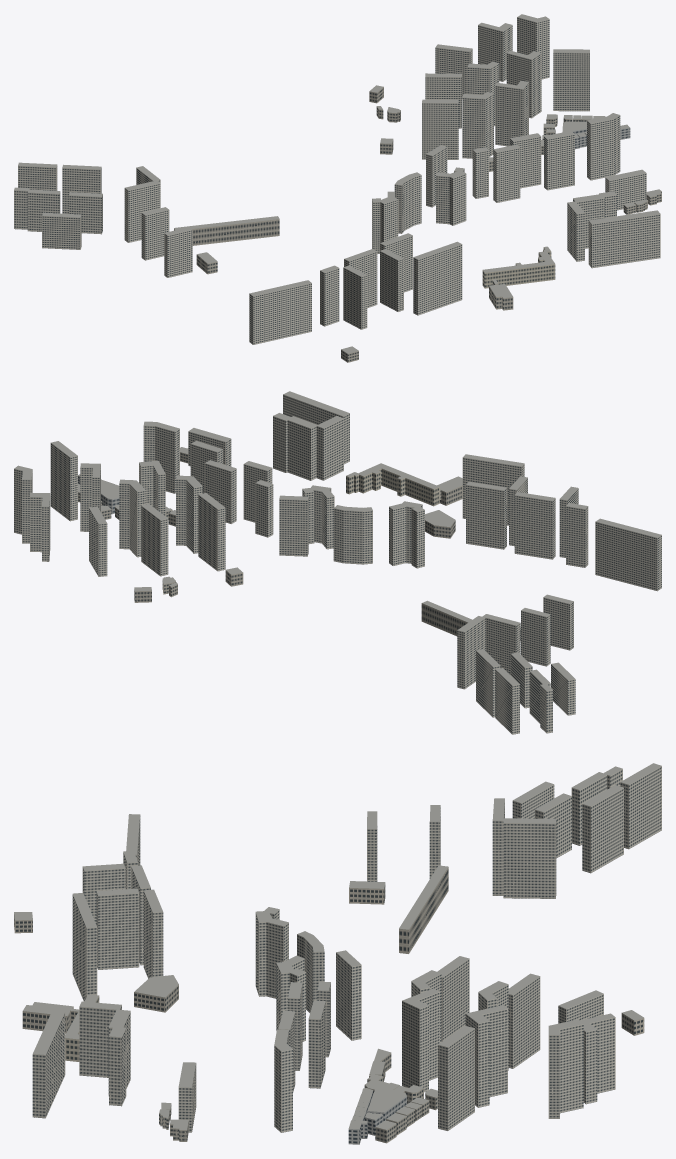
3 views of the same model, one above another, from view 1: azimuth 30°, elevation 25°; view 2: azimuth 150°, elevation 25°; view 3: azimuth 270°, elevation 25° (orthographic). The views are drawn at different scales.
Visible parts, largest first — view 1: ctx-apartments, ctx-roof, ctx-other, ctx-school; view 2: ctx-apartments, ctx-roof, ctx-other, ctx-school; view 3: ctx-apartments, ctx-roof, ctx-other, ctx-commercial.
Part boxes in pixels (left/top/right/bottom): ctx-apartments: left=14, top=17, right=660, bottom=344; ctx-roof: left=14, top=14, right=661, bottom=353; ctx-other: left=174, top=87, right=661, bottom=362; ctx-school: left=482, top=247, right=555, bottom=288; ctx-apartments: left=14, top=394, right=661, bottom=734; ctx-roof: left=14, top=391, right=661, bottom=690; ctx-other: left=78, top=452, right=520, bottom=640; ctx-school: left=346, top=468, right=439, bottom=506; ctx-apartments: left=32, top=766, right=661, bottom=1132; ctx-roof: left=14, top=763, right=661, bottom=1129; ctx-other: left=14, top=867, right=644, bottom=1143; ctx-commercial: left=348, top=1090, right=406, bottom=1144.
Size of the model in its own units: 833 by 171 by 619.
5 materials, 4 textured.
